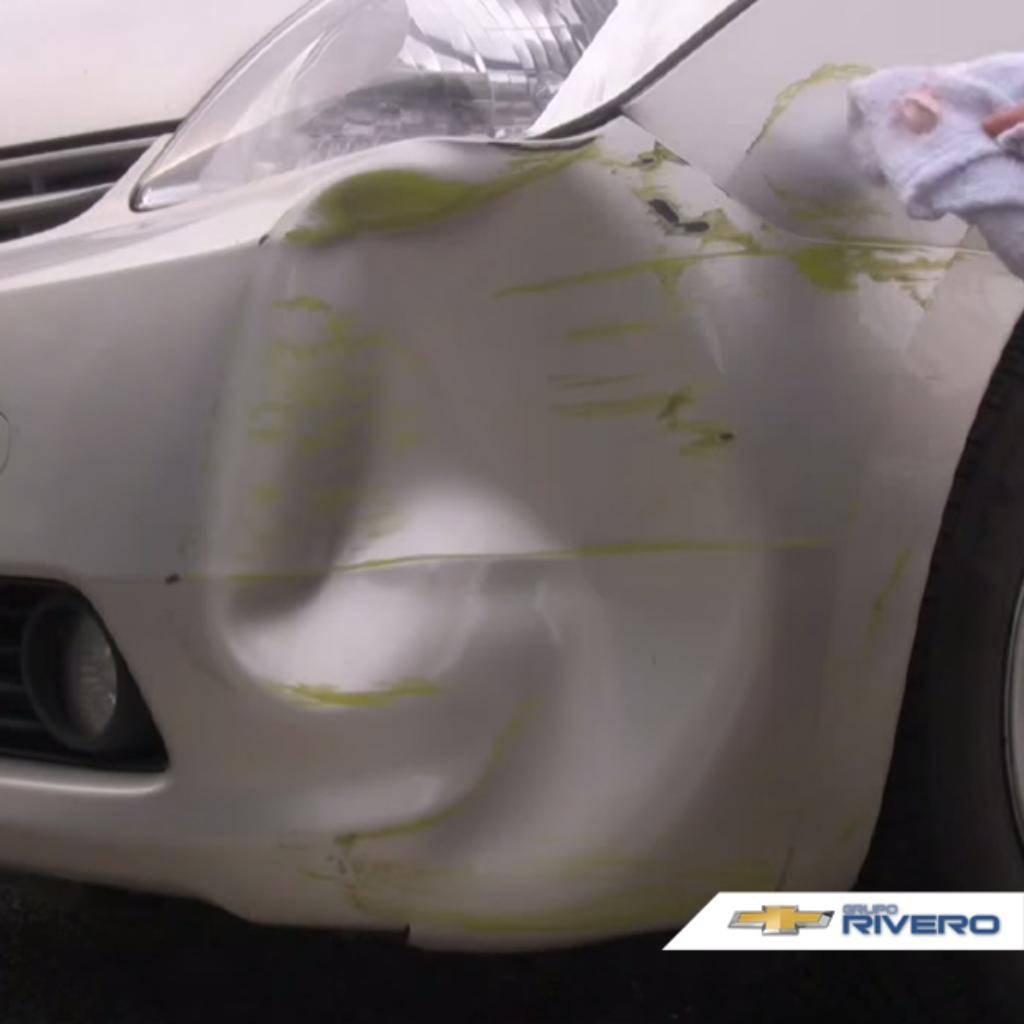Dent: (217, 137, 799, 934)
Scratch: (288, 160, 737, 457), (514, 232, 970, 335), (285, 676, 481, 730)
